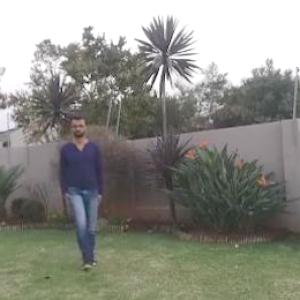follow: (62, 112, 108, 263)
